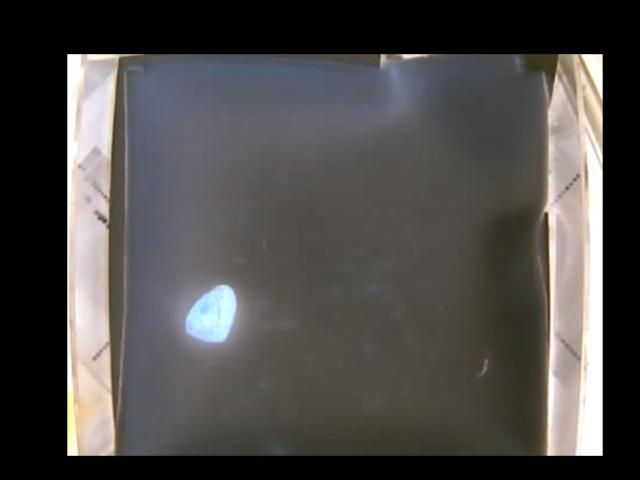Pebble: (185, 282, 235, 344)
